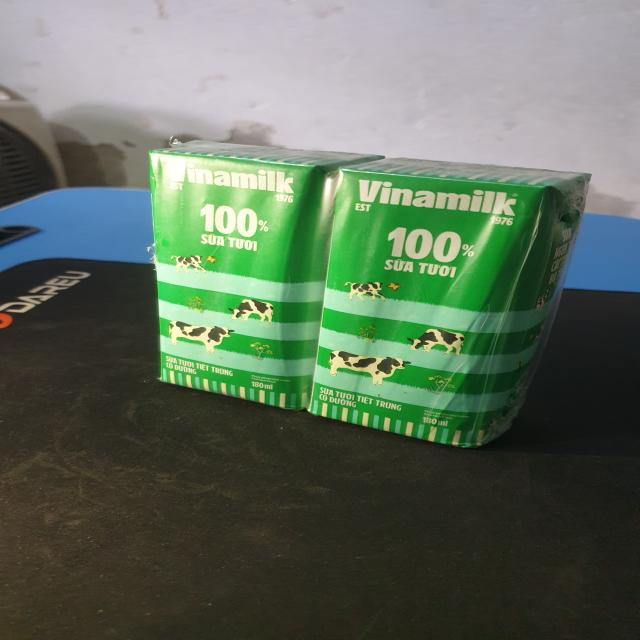Vina: (305, 156, 597, 451), (151, 140, 390, 415)
